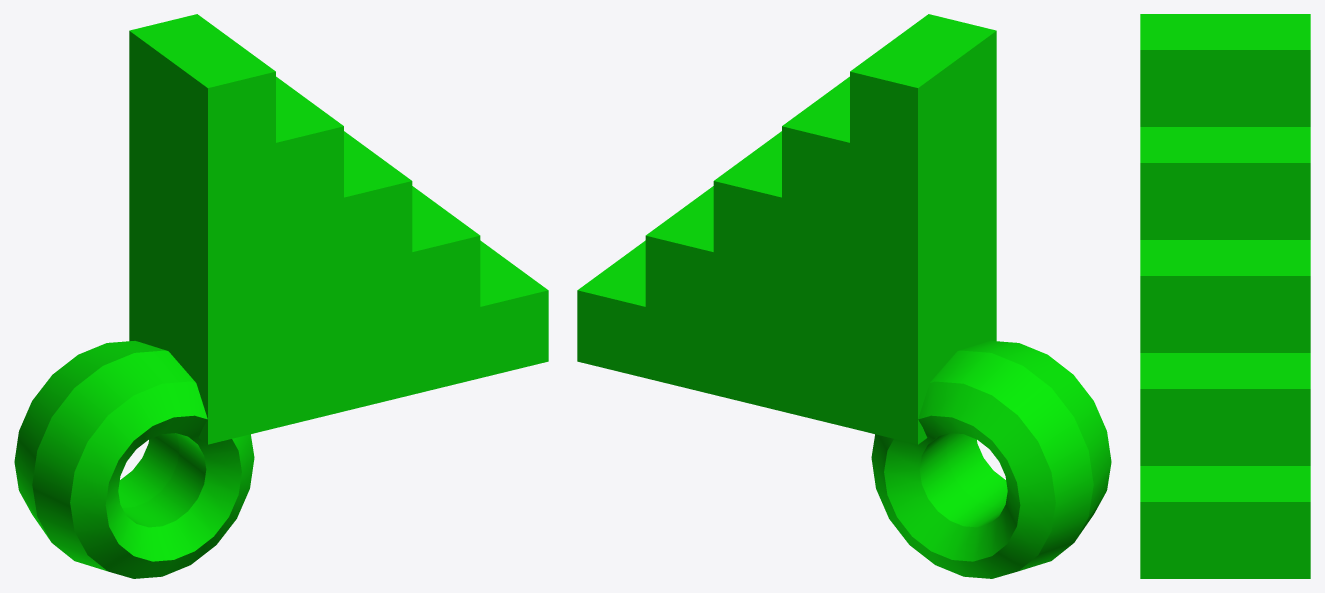
Rendered from Kaidan.fbx.
3 renders of one model, left to right at view 1: azimuth 30°, elevation 25°; view 2: azimuth 150°, elevation 25°; view 3: azimuth 270°, elevation 25°, orthographic. The views are drawn at different scales.
Parts seen in each view (by area): view 1: pCube3, pTorus1, pCube4, pCube5, pCube7, pCube6; view 2: pCube3, pTorus1, pCube4, pCube5, pCube7, pCube6; view 3: pCube3, pCube4, pCube5, pCube6, pCube7.
Part boxes in pixels (x1,y1,x2,y2): pCube3: (129, 14, 275, 373); pTorus1: (14, 341, 254, 578); pCube4: (129, 240, 548, 444); pCube5: (276, 186, 480, 356); pCube7: (276, 76, 343, 285); pCube6: (344, 131, 412, 268); pCube3: (850, 14, 996, 373); pTorus1: (871, 341, 1111, 578); pCube4: (577, 240, 996, 444); pCube5: (645, 186, 849, 356); pCube7: (782, 76, 849, 285); pCube6: (713, 131, 781, 268); pCube3: (1140, 14, 1310, 126); pCube4: (1140, 466, 1310, 578); pCube5: (1140, 353, 1310, 465); pCube6: (1140, 240, 1310, 352); pCube7: (1140, 127, 1310, 239).
Size of the model in its own units: 7 by 7 by 2.
